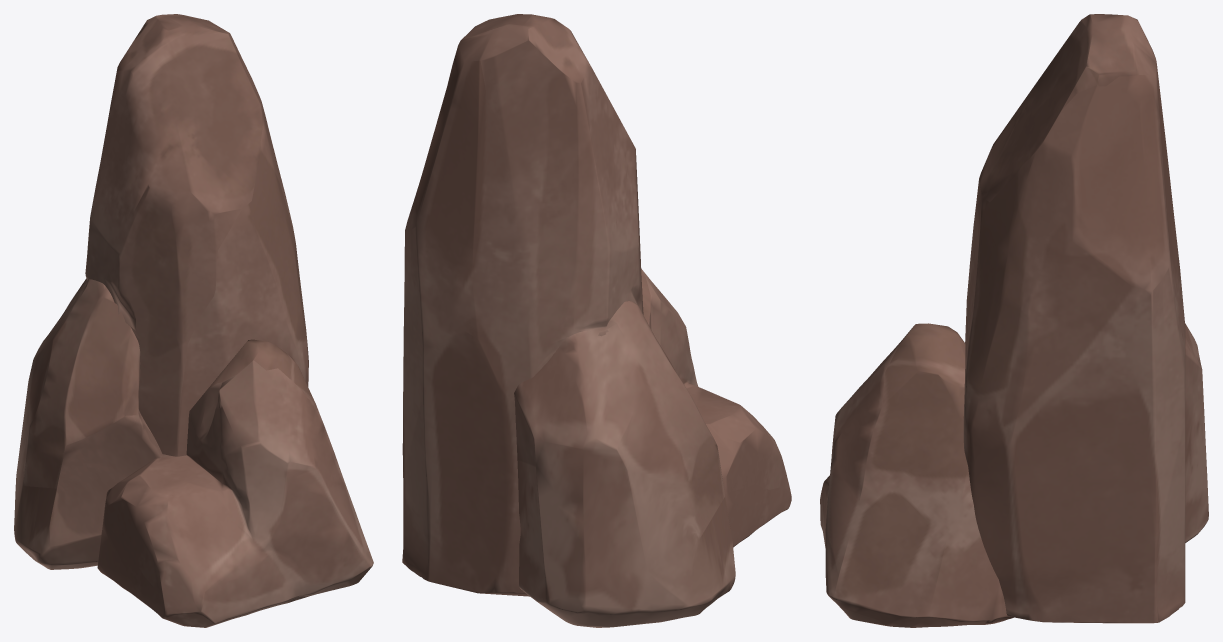
File: Rock_1.FBX
3 views of the same model, side by side, from view 1: azimuth 30°, elevation 25°; view 2: azimuth 150°, elevation 25°; view 3: azimuth 270°, elevation 25° (orthographic). The views are drawn at different scales.
Parts seen in each view (by area): view 1: cube_NewUVs; view 2: cube_NewUVs; view 3: cube_NewUVs.
Boxes of the visible parts, x1,y1,x2,y2 form: cube_NewUVs: (14, 14, 373, 627); cube_NewUVs: (402, 14, 791, 627); cube_NewUVs: (820, 14, 1208, 627).
Bounding box in the file's own units: 788 × 1464 × 912.
